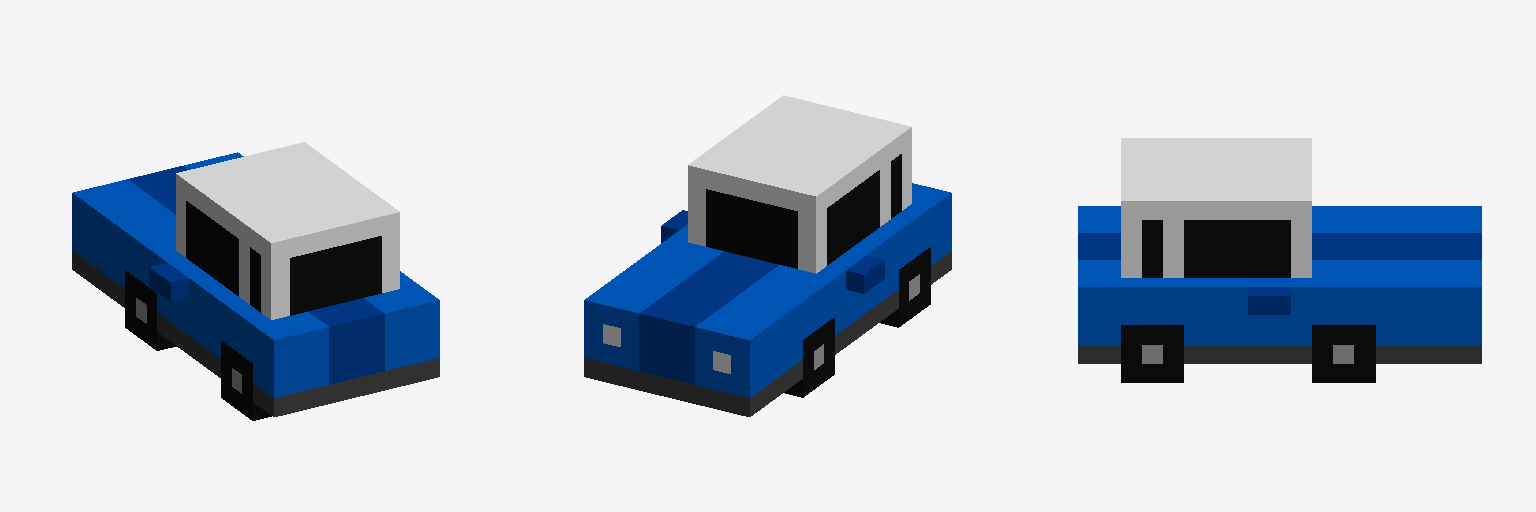
3 views of the same model, side by side, from view 1: azimuth 30°, elevation 25°; view 2: azimuth 150°, elevation 25°; view 3: azimuth 270°, elevation 25° (orthographic).
Visible parts, largest first — view 1: car_2; view 2: car_2; view 3: car_2.
Part boxes in pixels (left/top/right/bottom): car_2: left=72, top=142, right=439, bottom=420; car_2: left=584, top=95, right=951, bottom=416; car_2: left=1078, top=138, right=1481, bottom=382.
Size of the model in its own units: 11 by 9 by 19.
Materials: 1 (1 with a texture image).